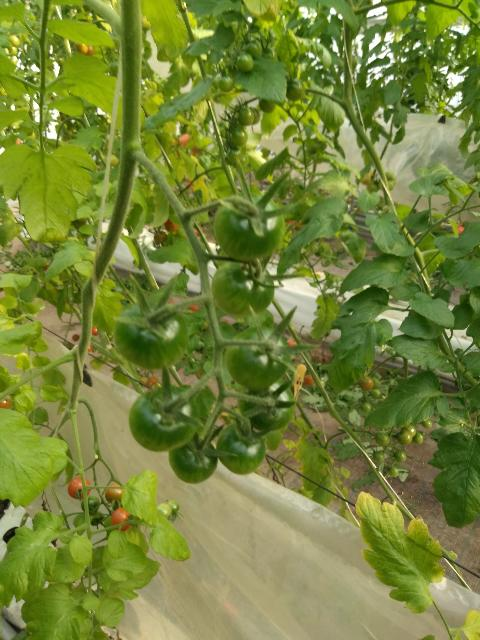l_fully_ripened: (67, 476, 91, 499)
l_green: (214, 191, 285, 262), (115, 301, 188, 370), (127, 386, 200, 452), (223, 327, 289, 390), (211, 259, 274, 319), (237, 377, 296, 433), (217, 423, 266, 475), (168, 436, 217, 484), (80, 495, 99, 514), (157, 504, 172, 520), (167, 501, 179, 514)
l_half_ripened: (111, 506, 134, 532), (105, 483, 123, 504)
